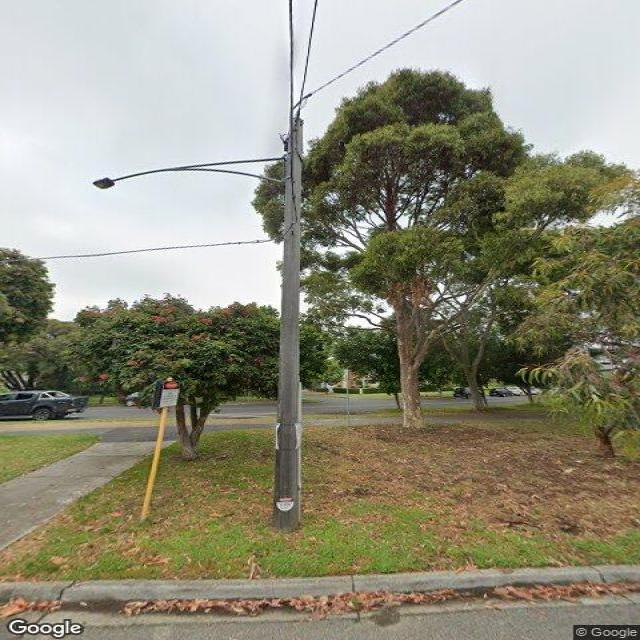streetlight: (92, 159, 288, 191)
timber-pole: (270, 115, 303, 530)
